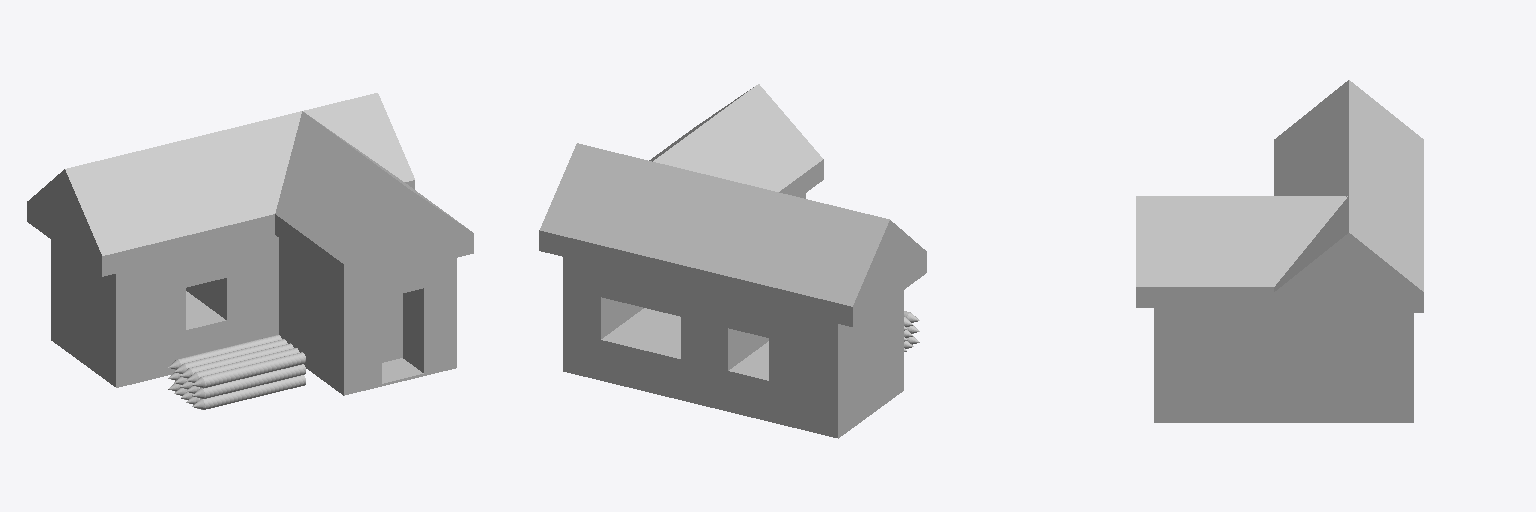
File: Javelin_Maker.obj
3 renders of one model, left to right at view 1: azimuth 30°, elevation 25°; view 2: azimuth 150°, elevation 25°; view 3: azimuth 270°, elevation 25°, orthographic.
Parts seen in each view (by area): view 1: Cube.002_Cube.003, Cube_Cube.001, Cone; view 2: Cube.002_Cube.003, Cube_Cube.001; view 3: Cube.002_Cube.003, Cube_Cube.001.
Part boxes in pixels (x1,y1,x2,y2): Cube.002_Cube.003: (27,93,473,284); Cube_Cube.001: (51,235,456,395); Cone: (168,335,305,409); Cube.002_Cube.003: (539,84,926,326); Cube_Cube.001: (563,193,903,438); Cube.002_Cube.003: (1136,80,1423,312); Cube_Cube.001: (1154,308,1413,422).
Bounding box in the file's own units: 7.69 × 4.69 × 6.12.